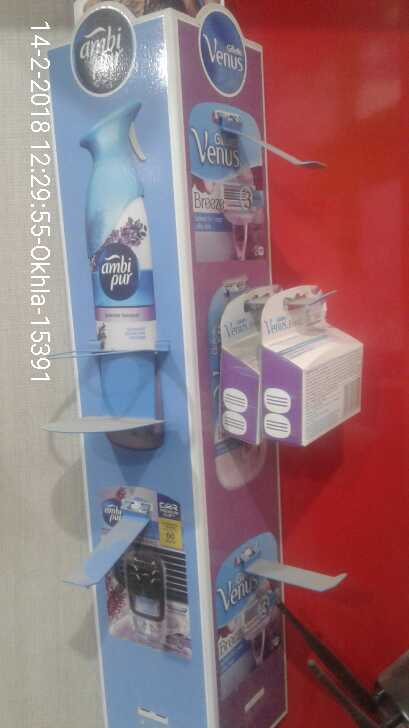reject: (165, 323, 240, 391)
